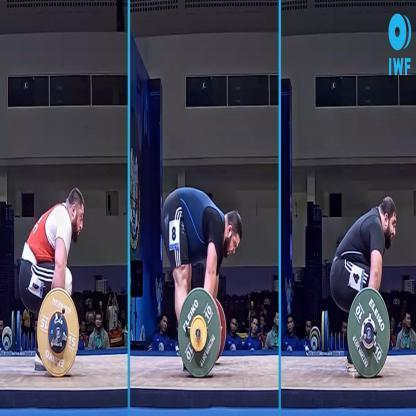barbell: (179, 290, 227, 378), (348, 288, 390, 377), (36, 288, 78, 376)
